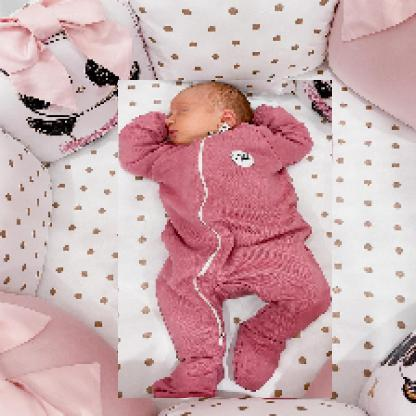child: (119, 81, 334, 400)
